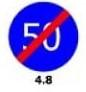road_sign: (9, 2, 77, 70)
